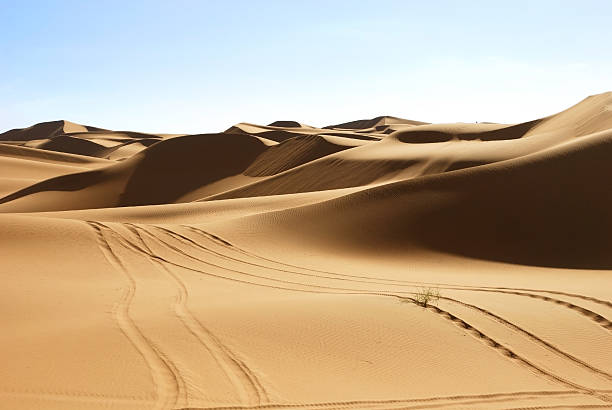vehicle_track: (180, 224, 611, 307), (85, 221, 181, 408), (426, 305, 611, 401), (430, 306, 609, 400), (151, 260, 268, 403), (155, 226, 421, 286), (440, 296, 611, 380), (180, 390, 581, 409), (470, 289, 611, 330)
